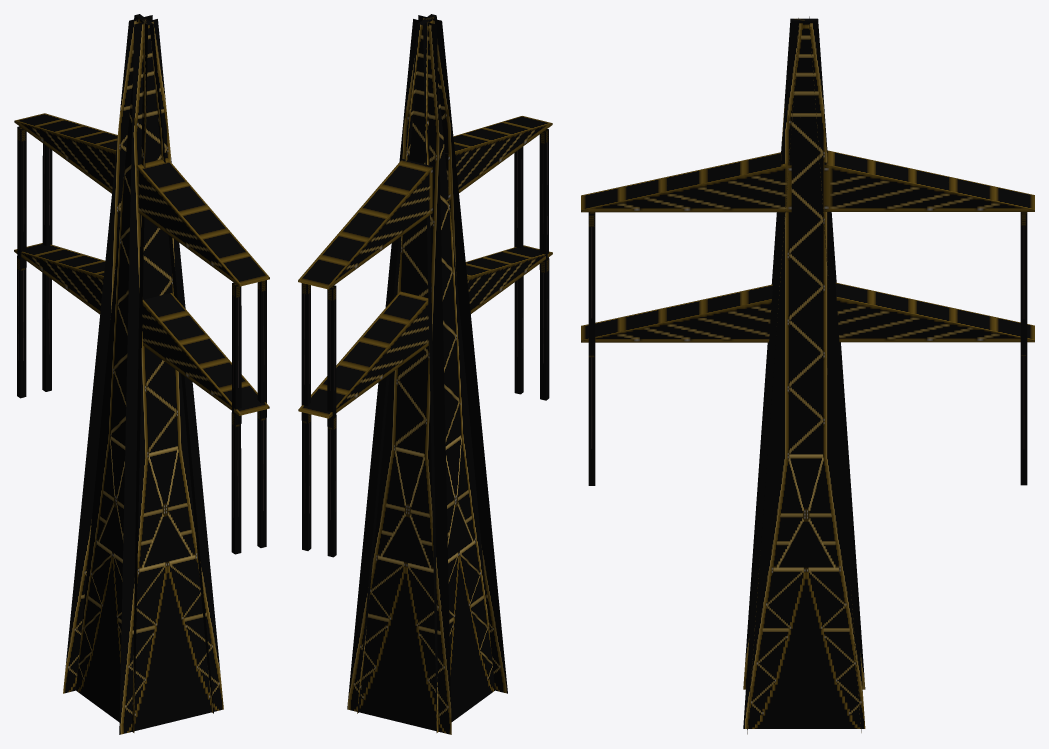
File: BGN-ELECTRIC TOWER.fbx
3 renders of one model, left to right at view 1: azimuth 30°, elevation 25°; view 2: azimuth 150°, elevation 25°; view 3: azimuth 270°, elevation 25°, orthographic.
Parts seen in each view (by area): view 1: INVERT_FACE, BGN_ELECTRIC_TOWER, Cube__28_, Cube__27_, Cube__26_, Cube__25_; view 2: INVERT_FACE, BGN_ELECTRIC_TOWER, Cube__26_, Cube__25_, Cube__28_, Cube__27_; view 3: BGN_ELECTRIC_TOWER, Cube__28_, Cube__26_, Cube__25_, Cube__27_, INVERT_FACE.
Part boxes in pixels (box(x1,y1,x2,y2)): INVERT_FACE: box(63, 15, 223, 734); BGN_ELECTRIC_TOWER: box(76, 14, 213, 732); Cube__28_: box(136, 158, 269, 424); Cube__27_: box(142, 293, 269, 554); Cube__26_: box(14, 113, 117, 268); Cube__25_: box(14, 243, 105, 398); INVERT_FACE: box(347, 15, 507, 734); BGN_ELECTRIC_TOWER: box(357, 14, 494, 732); Cube__26_: box(298, 159, 432, 427); Cube__25_: box(298, 291, 428, 557); Cube__28_: box(444, 116, 552, 269); Cube__27_: box(465, 245, 552, 400); BGN_ELECTRIC_TOWER: box(743, 18, 865, 728); Cube__28_: box(581, 152, 791, 355); Cube__26_: box(824, 150, 1034, 354); Cube__25_: box(835, 282, 1034, 485); Cube__27_: box(581, 284, 772, 485); INVERT_FACE: box(747, 16, 861, 734).
Bounding box in the file's own units: 405 × 2523 × 1506.
Materials: 1 (1 with a texture image).
